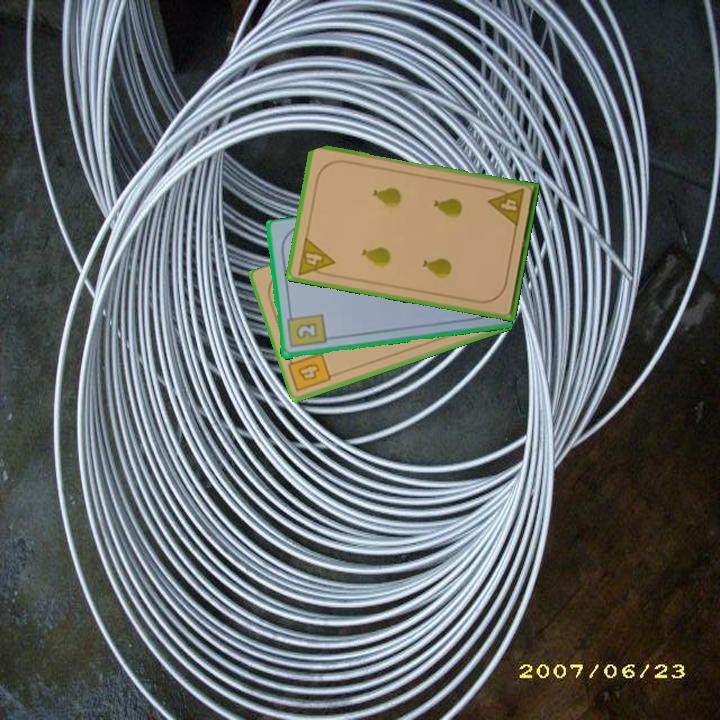2b: (283, 309, 328, 351)
4b: (284, 350, 334, 394)
4p: (294, 233, 337, 280), (485, 184, 527, 230)
